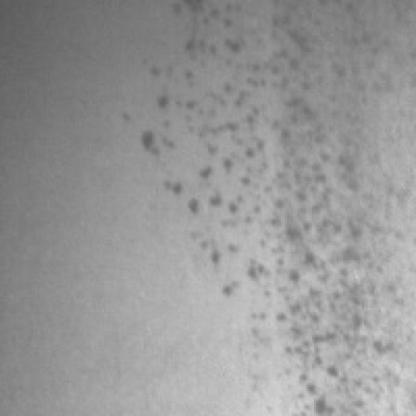pitted_surface: (137, 12, 391, 416)
